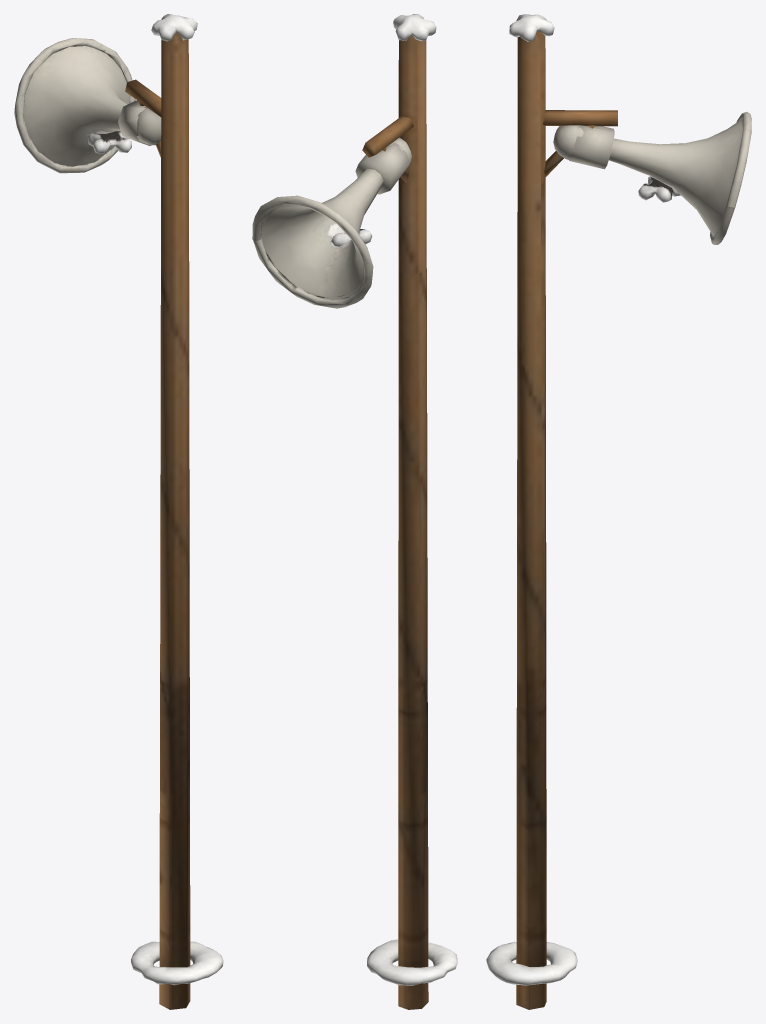
Rendered from speaker_pole.glb.
The picture shows the model from 3 angles, left to right: view 1: azimuth 30°, elevation 25°; view 2: azimuth 150°, elevation 25°; view 3: azimuth 270°, elevation 25°; orthographic projection.
Parts seen in each view (by area): view 1: prop_speaker_pole_wood, prop_speaker_pole_felt; view 2: prop_speaker_pole_wood, prop_speaker_pole_felt; view 3: prop_speaker_pole_wood, prop_speaker_pole_felt.
Part boxes in pixels (left/top/right/bottom): prop_speaker_pole_wood: left=125, top=33, right=190, bottom=1009; prop_speaker_pole_felt: left=14, top=14, right=223, bottom=985; prop_speaker_pole_wood: left=362, top=36, right=428, bottom=1009; prop_speaker_pole_felt: left=252, top=14, right=457, bottom=985; prop_speaker_pole_wood: left=516, top=31, right=617, bottom=1009; prop_speaker_pole_felt: left=486, top=14, right=751, bottom=985.
Bounding box in the file's own units: 0.666 × 5.3 × 1.29.
Materials: 2 (2 with a texture image).
